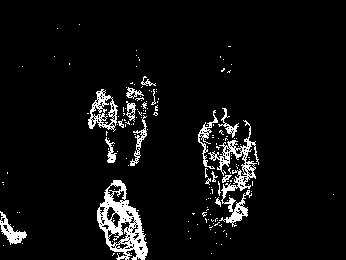person: (219, 118, 258, 226), (96, 179, 147, 260), (196, 105, 234, 204), (88, 86, 119, 163), (122, 85, 149, 167)
